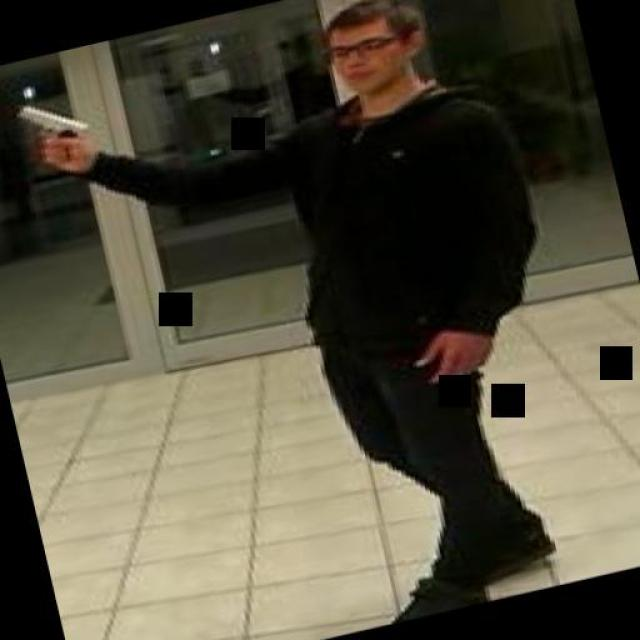gun: (6, 90, 99, 175)
